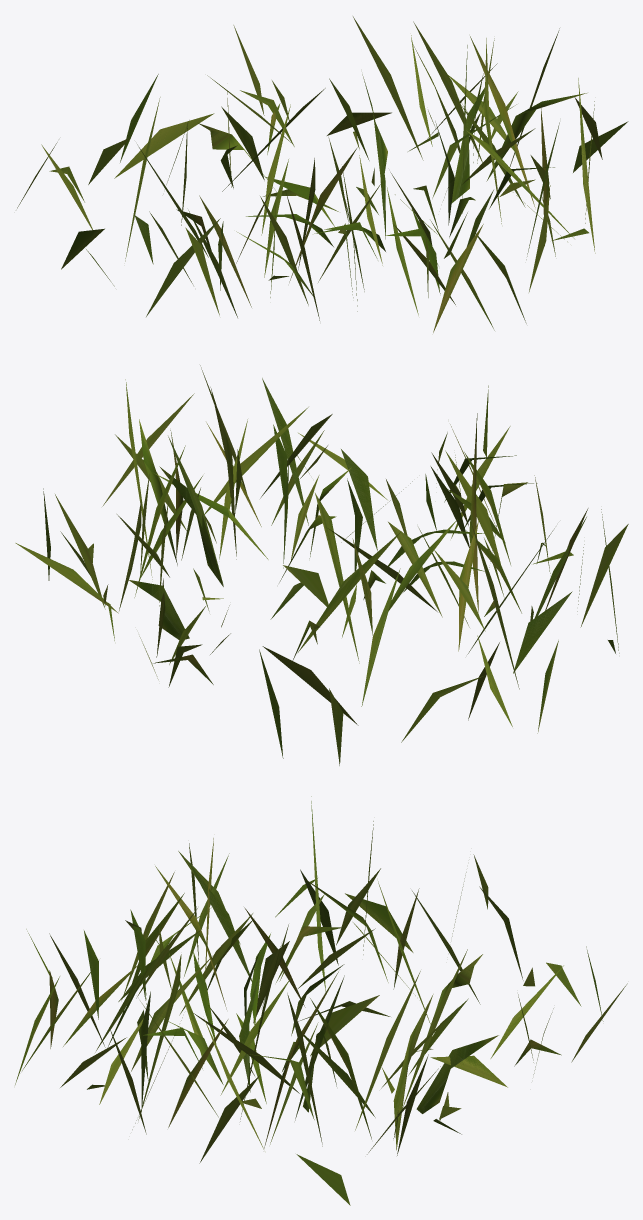
Rendered from Tuft_Woodland_B.glb.
3 renders of one model, top to bottom at view 1: azimuth 30°, elevation 25°; view 2: azimuth 150°, elevation 25°; view 3: azimuth 270°, elevation 25°, orthographic. The views are drawn at different scales.
Visible parts, largest first — view 1: Tuft_Woodland_B; view 2: Tuft_Woodland_B; view 3: Tuft_Woodland_B.
Part boxes in pixels (<box>): Tuft_Woodland_B: <box>17,16,628,332</box>; Tuft_Woodland_B: <box>15,365,628,765</box>; Tuft_Woodland_B: <box>15,796,627,1205</box>.
Size of the model in its own units: 0.1641 by 0.0557 by 0.1524.
1 material, 1 textured.
